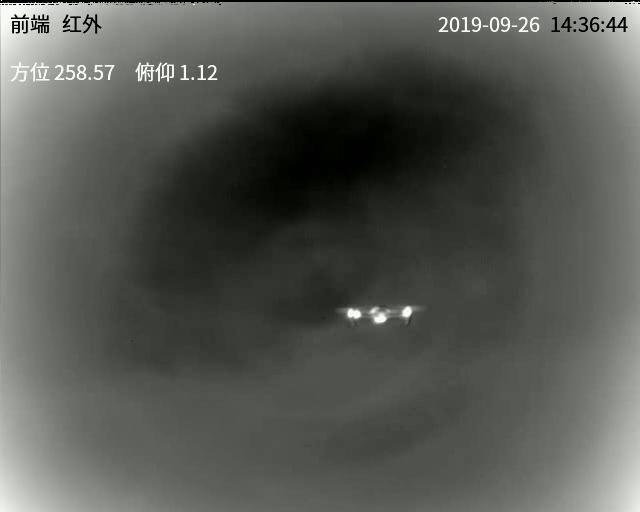DRONE: (346, 302, 413, 328)
